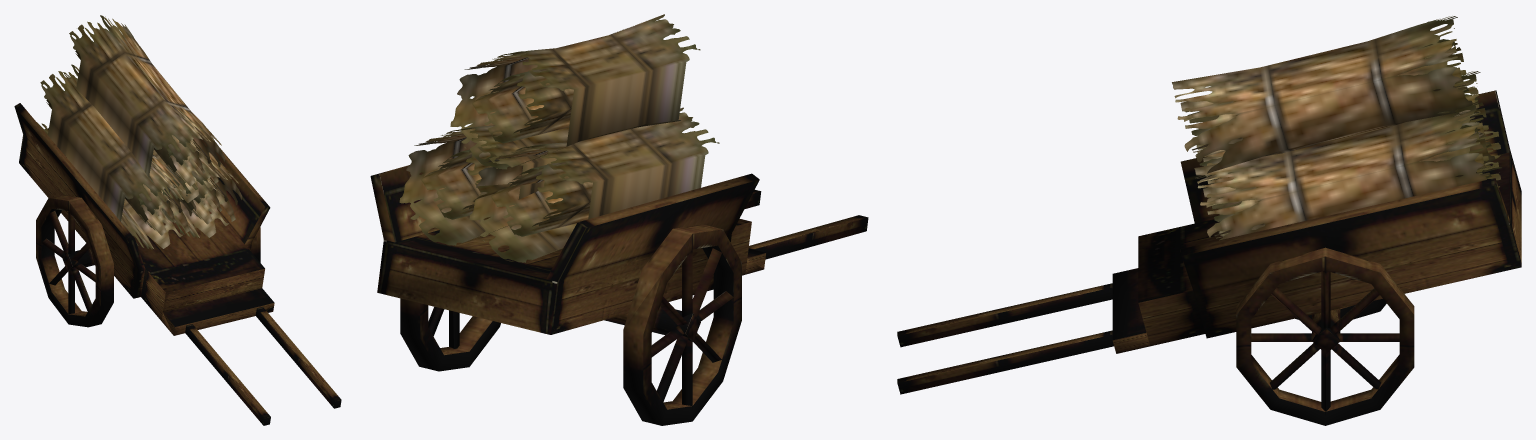
3 renders of one model, left to right at view 1: azimuth 30°, elevation 25°; view 2: azimuth 150°, elevation 25°; view 3: azimuth 270°, elevation 25°, orthographic. The views are drawn at different scales.
Visible parts, largest first — view 1: wj76; view 2: wj76; view 3: wj76.
Boxes of the visible parts, <box> form: wj76: <box>14,15,341,425</box>; wj76: <box>370,14,868,425</box>; wj76: <box>897,16,1521,425</box>.
Size of the model in its own units: 455 by 696 by 1110.
